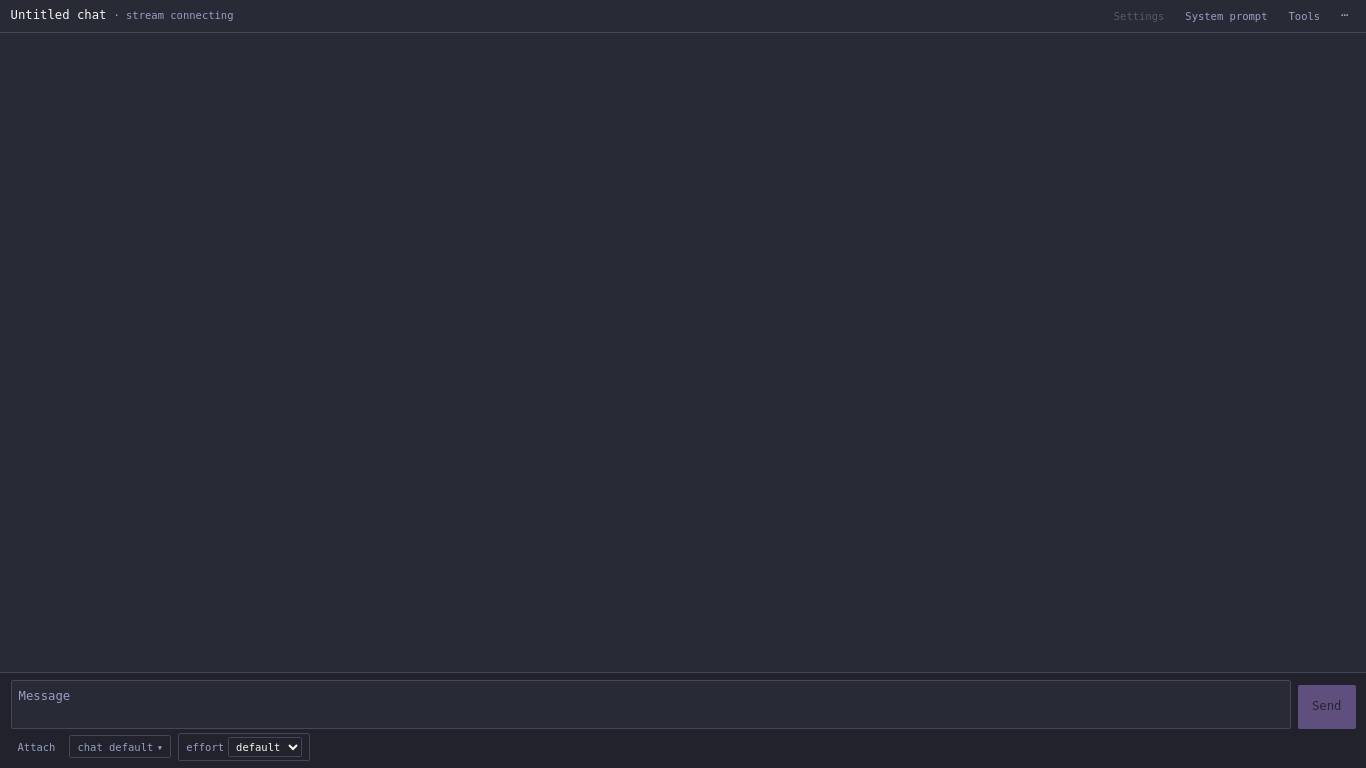
it: chat header: settings, system prompt and delete › shows the exact prompt, its source, model, tool count and a link to the prompt
This screenshot has width=1366, height=768.
What coordinates should you click on to do the following:
click the button "System prompt"
I would click on:
 (1226, 16)
Its box is x1=1178 y1=5 x2=1274 y2=26.
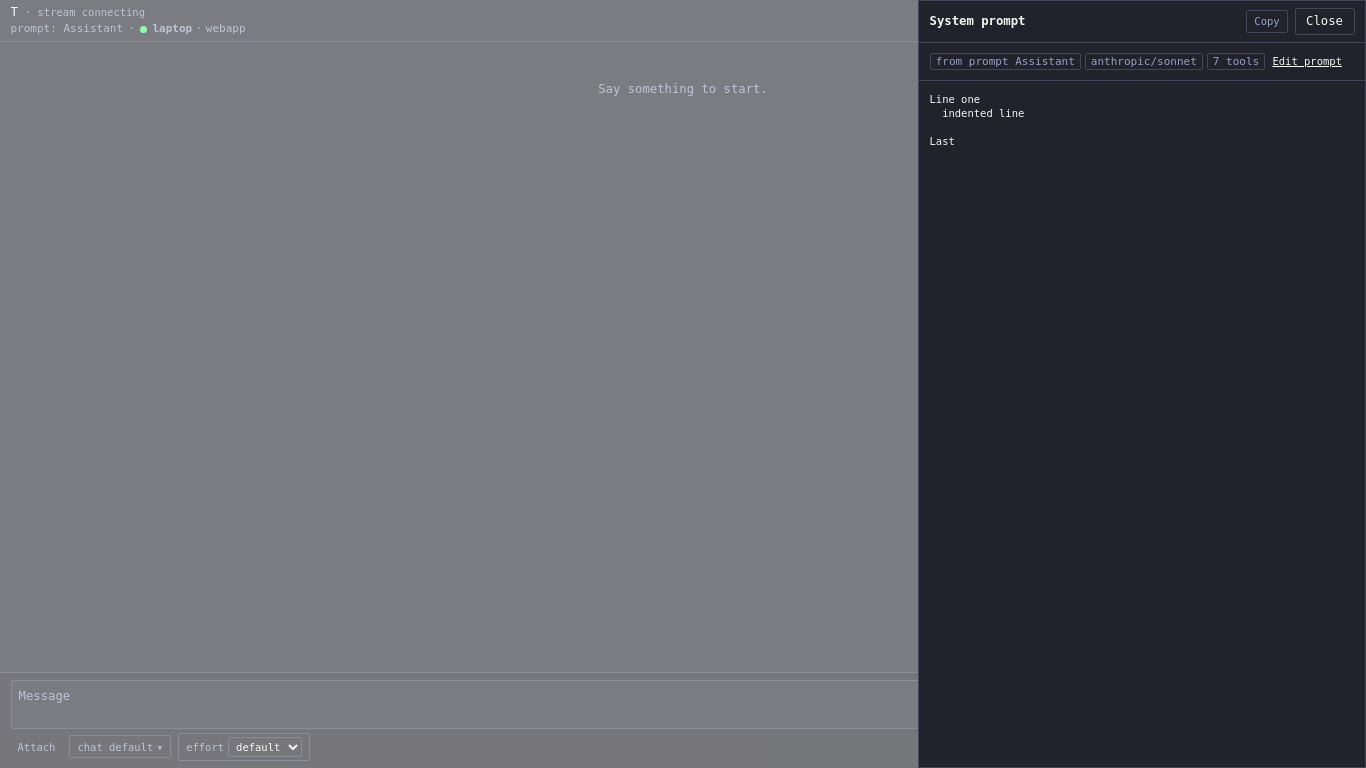
Now the text with test id "prompt-source" reads "from prompt Assistant", box x1=936 y1=55 x2=1075 y2=68
Now the text "anthropic/sonnet" is shown, box x1=1085 y1=53 x2=1203 y2=70
Now the text "7 tools" is shown, box x1=1206 y1=53 x2=1265 y2=70
